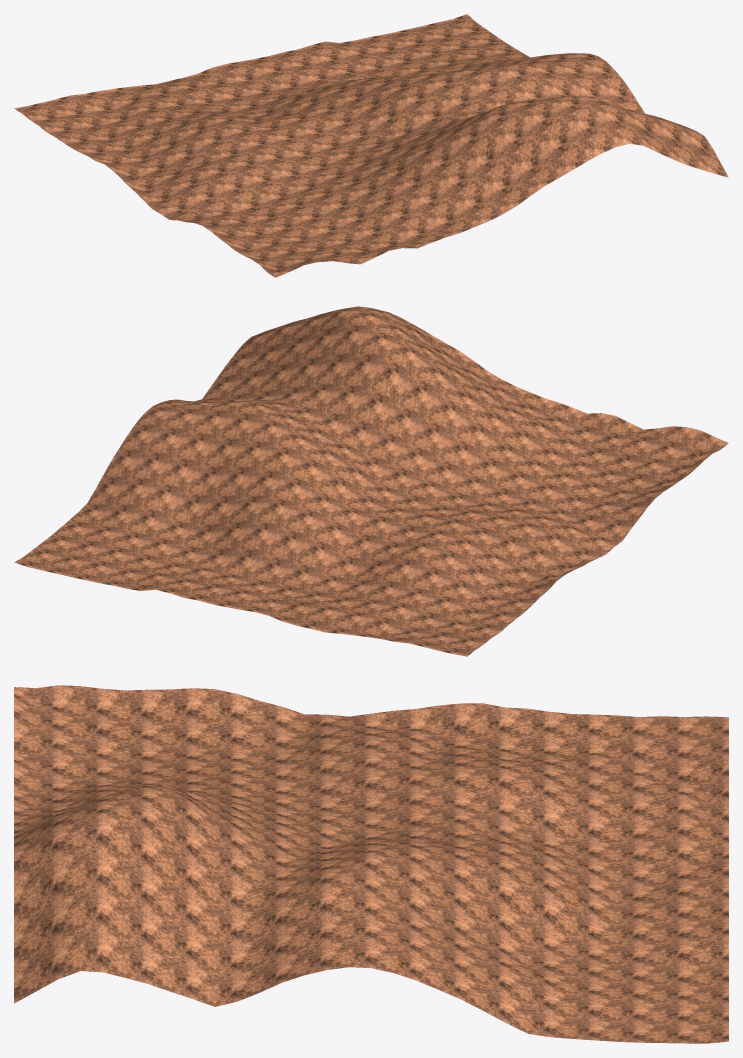
File: terrain_07_05.dae
The picture shows the model from 3 angles, top to bottom: view 1: azimuth 30°, elevation 25°; view 2: azimuth 150°, elevation 25°; view 3: azimuth 270°, elevation 25°; orthographic projection. The views are drawn at different scales.
Parts seen in each view (by area): view 1: terrain_07_05-node; view 2: terrain_07_05-node; view 3: terrain_07_05-node.
Part boxes in pixels (x1,y1,x2,y2): terrain_07_05-node: (14,14,728,277); terrain_07_05-node: (14,306,728,656); terrain_07_05-node: (14,685,728,1043).
Size of the model in its own units: 128 by 128 by 30.3.
1 material, 1 textured.
